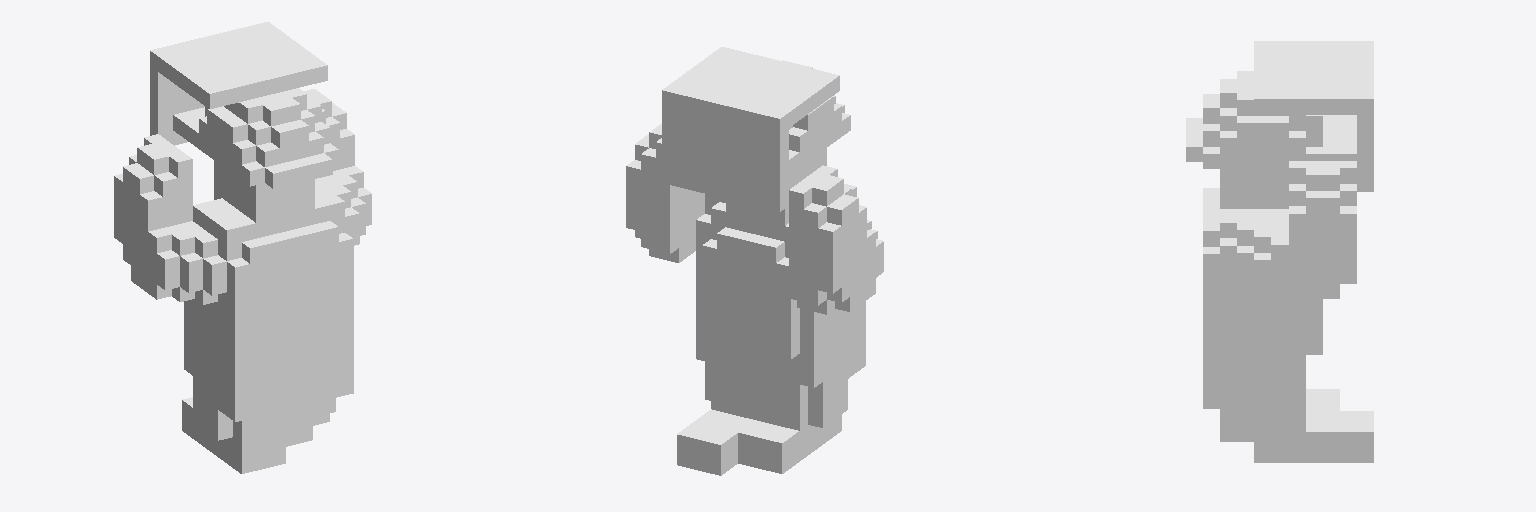
The model's file is WhiteLaptopPuncher_renn_2.obj.
The picture shows the model from 3 angles: view 1: azimuth 30°, elevation 25°; view 2: azimuth 150°, elevation 25°; view 3: azimuth 270°, elevation 25°; orthographic projection.
Parts seen in each view (by area): view 1: object 1; view 2: object 1; view 3: object 1.
Part boxes in pixels (left/top/right/bottom): object 1: left=114, top=22, right=371, bottom=473; object 1: left=626, top=47, right=883, bottom=475; object 1: left=1186, top=41, right=1373, bottom=462.
Bounding box in the file's own units: 1.4 × 2.4 × 1.1.